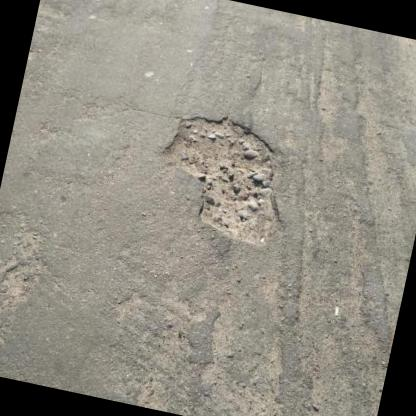pothole: (143, 102, 303, 254)
